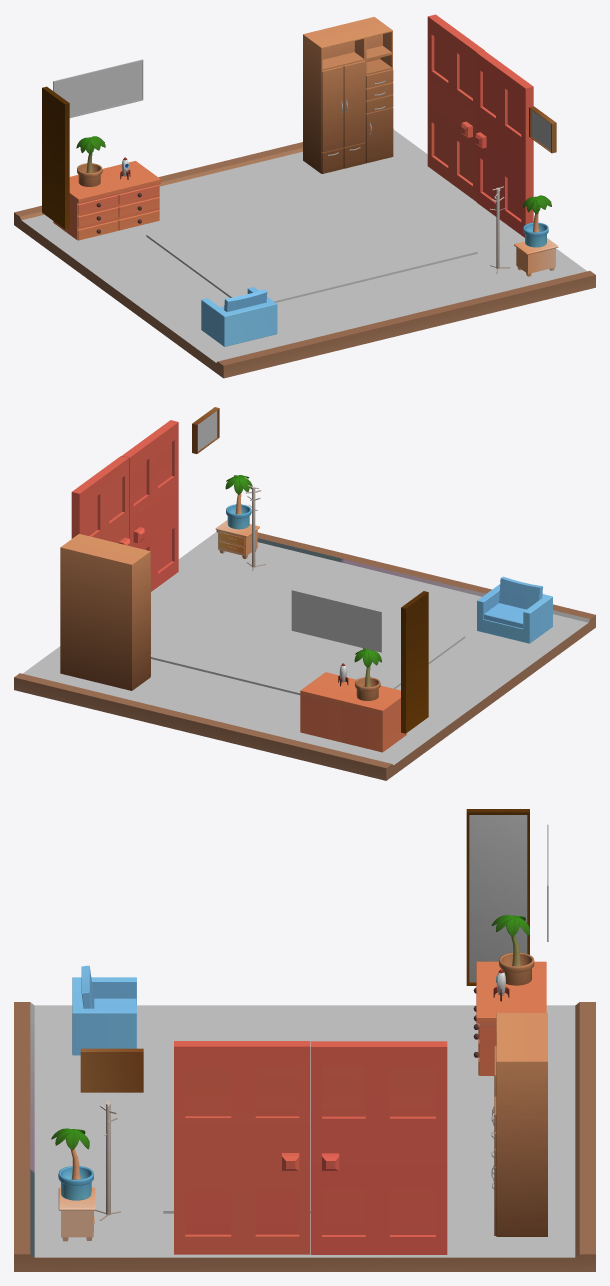
File: ENTRADA.fbx
3 views of the same model, one above another, from view 1: azimuth 30°, elevation 25°; view 2: azimuth 150°, elevation 25°; view 3: azimuth 270°, elevation 25° (orthographic). The views are drawn at different scales.
Visible parts, largest first — view 1: suelo1, fombra7, armario1, puerta_dob__2, puerta_dob_3, comod2, espejo1, cuadro5, sillon2, mesita3, palma_4, cuadro3 (+1 smaller); view 2: suelo1, fombra7, armario1, puerta_dob__2, comod2, puerta_dob_3, sillon2, cuadro5, espejo1, mesita3, palma_4, cuadro3 (+1 smaller); view 3: suelo1, puerta_dob_3, puerta_dob__2, armario1, espejo1, sillon2, comod2, cuadro3, fombra7, palma_4, palma2, mesita3 (+1 smaller).
Boxes of the visible parts, bbox=[...] form: suelo1: bbox=[14, 129, 595, 378]; fombra7: bbox=[146, 178, 477, 302]; armario1: bbox=[303, 17, 393, 173]; puerta_dob__2: bbox=[475, 50, 533, 237]; puerta_dob_3: bbox=[427, 14, 484, 201]; comod2: bbox=[53, 161, 160, 240]; espejo1: bbox=[42, 86, 69, 229]; cuadro5: bbox=[53, 59, 143, 117]; sillon2: bbox=[201, 287, 277, 346]; mesita3: bbox=[514, 238, 558, 276]; palma_4: bbox=[522, 195, 551, 247]; cuadro3: bbox=[529, 106, 556, 153]; suelo1: bbox=[14, 530, 595, 780]; fombra7: bbox=[150, 579, 465, 695]; armario1: bbox=[60, 534, 150, 690]; puerta_dob__2: bbox=[122, 420, 178, 591]; comod2: bbox=[300, 672, 406, 752]; puerta_dob_3: bbox=[71, 456, 130, 545]; sillon2: bbox=[477, 576, 552, 643]; cuadro5: bbox=[291, 590, 381, 652]; espejo1: bbox=[401, 591, 428, 733]; mesita3: bbox=[215, 520, 259, 558]; palma_4: bbox=[225, 475, 252, 529]; cuadro3: bbox=[192, 407, 219, 453]; suelo1: bbox=[14, 1002, 595, 1271]; puerta_dob_3: bbox=[311, 1041, 447, 1254]; puerta_dob__2: bbox=[174, 1041, 310, 1254]; armario1: bbox=[491, 1013, 547, 1236]; espejo1: bbox=[466, 809, 529, 985]; sillon2: bbox=[72, 965, 136, 1055]; comod2: bbox=[473, 961, 546, 1075]; cuadro3: bbox=[80, 1048, 143, 1092]; fombra7: bbox=[163, 1054, 310, 1213]; palma_4: bbox=[51, 1128, 93, 1200]; palma2: bbox=[491, 915, 534, 985]; mesita3: bbox=[58, 1187, 95, 1241].
Size of the model in its own units: 867 by 354 by 841.
